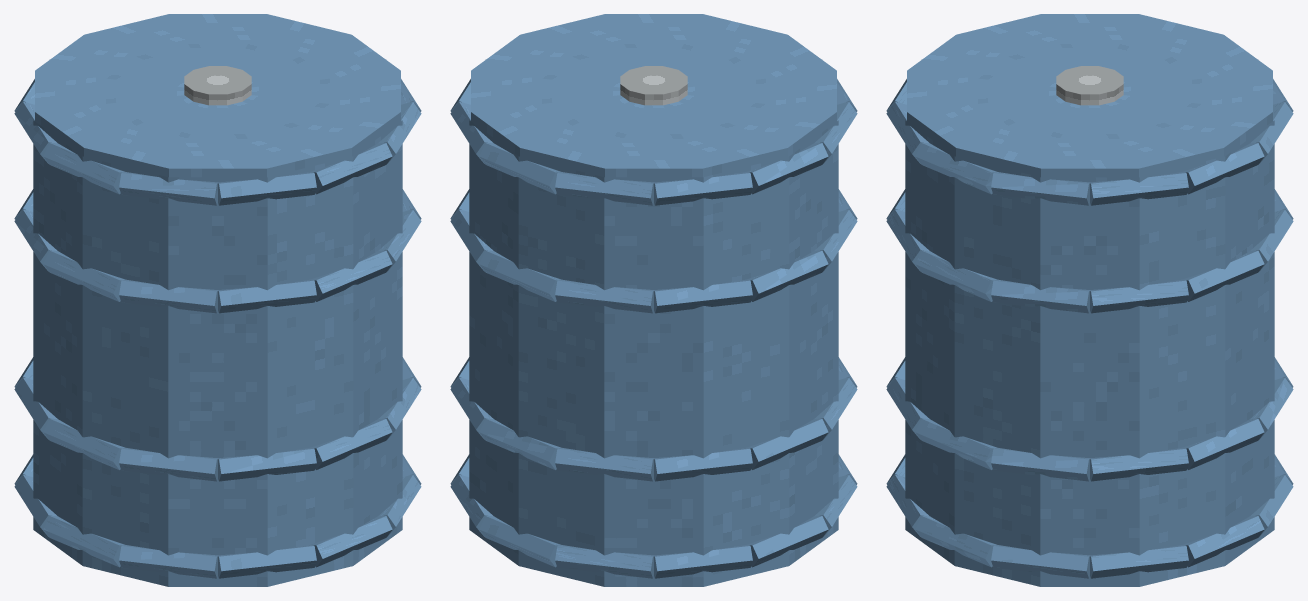
File: 30gal_barrel_mutagen.glb
The picture shows the model from 3 angles, left to right: view 1: azimuth 30°, elevation 25°; view 2: azimuth 150°, elevation 25°; view 3: azimuth 270°, elevation 25°; orthographic projection.
Parts seen in each view (by area): view 1: block_walls, block_lid, block_hoop3 (×4), block_hoop4 (×4), block_hoop2 (×4), block_hoop5 (×4), block_hoop1 (×4), block_hoop6 (×4), block_bung, block_foot; view 2: block_walls, block_lid, block_hoop7 (×4), block_hoop8 (×4), block_hoop6 (×4), block_hoop9 (×4), block_hoop5 (×4), block_hoop10 (×4), block_bung, block_foot; view 3: block_walls, block_lid, block_hoop0 (×4), block_hoop11 (×4), block_hoop1 (×4), block_hoop10 (×4), block_hoop2 (×4), block_hoop9 (×4), block_bung, block_foot.
Part boxes in pixels (x1,y1,x2,y2): block_walls: [33, 120, 402, 586]; block_lid: [35, 14, 400, 177]; block_hoop3 (×4): [218, 172, 316, 578]; block_hoop4 (×4): [119, 172, 217, 578]; block_hoop2 (×4): [311, 143, 392, 567]; block_hoop5 (×4): [43, 143, 124, 567]; block_hoop1 (×4): [378, 102, 421, 536]; block_hoop6 (×4): [14, 102, 57, 536]; block_bung: [184, 66, 251, 105]; block_foot: [33, 517, 402, 586]; block_walls: [469, 120, 838, 586]; block_lid: [471, 14, 836, 177]; block_hoop7 (×4): [654, 172, 752, 578]; block_hoop8 (×4): [555, 172, 653, 578]; block_hoop6 (×4): [747, 143, 828, 567]; block_hoop9 (×4): [479, 143, 560, 567]; block_hoop5 (×4): [814, 102, 857, 536]; block_hoop10 (×4): [450, 102, 493, 536]; block_bung: [620, 66, 687, 105]; block_foot: [469, 517, 838, 586]; block_walls: [905, 120, 1274, 586]; block_lid: [907, 14, 1272, 177]; block_hoop0 (×4): [991, 172, 1089, 578]; block_hoop11 (×4): [1090, 172, 1188, 578]; block_hoop1 (×4): [915, 143, 996, 567]; block_hoop10 (×4): [1183, 143, 1264, 567]; block_hoop2 (×4): [886, 102, 929, 536]; block_hoop9 (×4): [1250, 102, 1293, 536]; block_bung: [1056, 66, 1123, 105]; block_foot: [905, 517, 1274, 586].
Bounding box in the file's own units: 0.6199 × 0.72 × 0.6199.
Materials: 1 (1 with a texture image).
